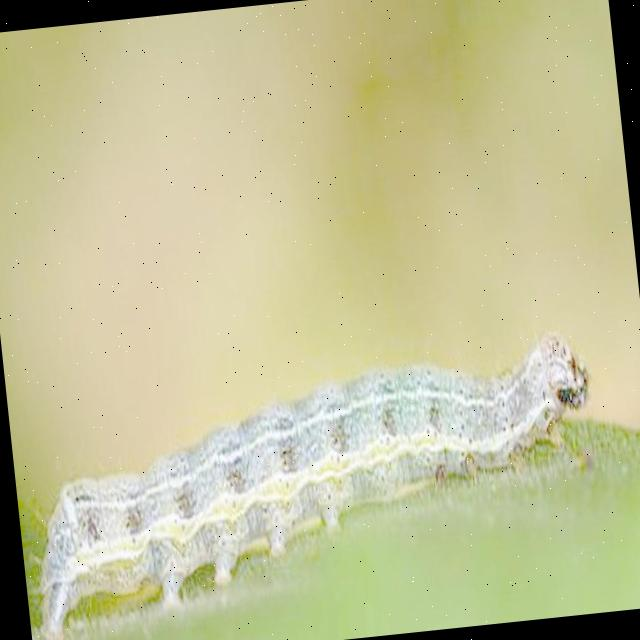worm: (15, 327, 612, 640)
